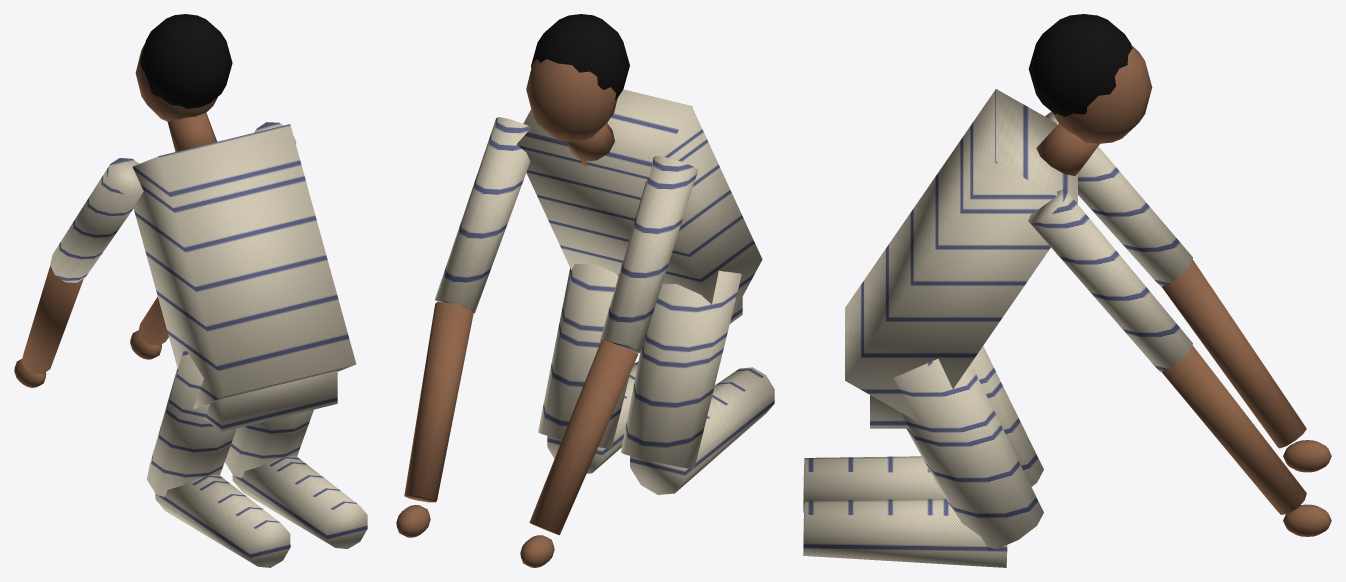
Rendered from persona_agachada_a.obj.
3 renders of one model, left to right at view 1: azimuth 30°, elevation 25°; view 2: azimuth 150°, elevation 25°; view 3: azimuth 270°, elevation 25°, orthographic. The views are drawn at different scales.
Parts seen in each view (by area): view 1: persona_agachada_a; view 2: persona_agachada_a; view 3: persona_agachada_a.
Part boxes in pixels (left/top/right/bottom): persona_agachada_a: left=14, top=14, right=367, bottom=567; persona_agachada_a: left=396, top=14, right=774, bottom=567; persona_agachada_a: left=803, top=14, right=1331, bottom=567.
Bounding box in the file's own units: 0.4856 × 1.14 × 1.04.
3 materials, 3 textured.
